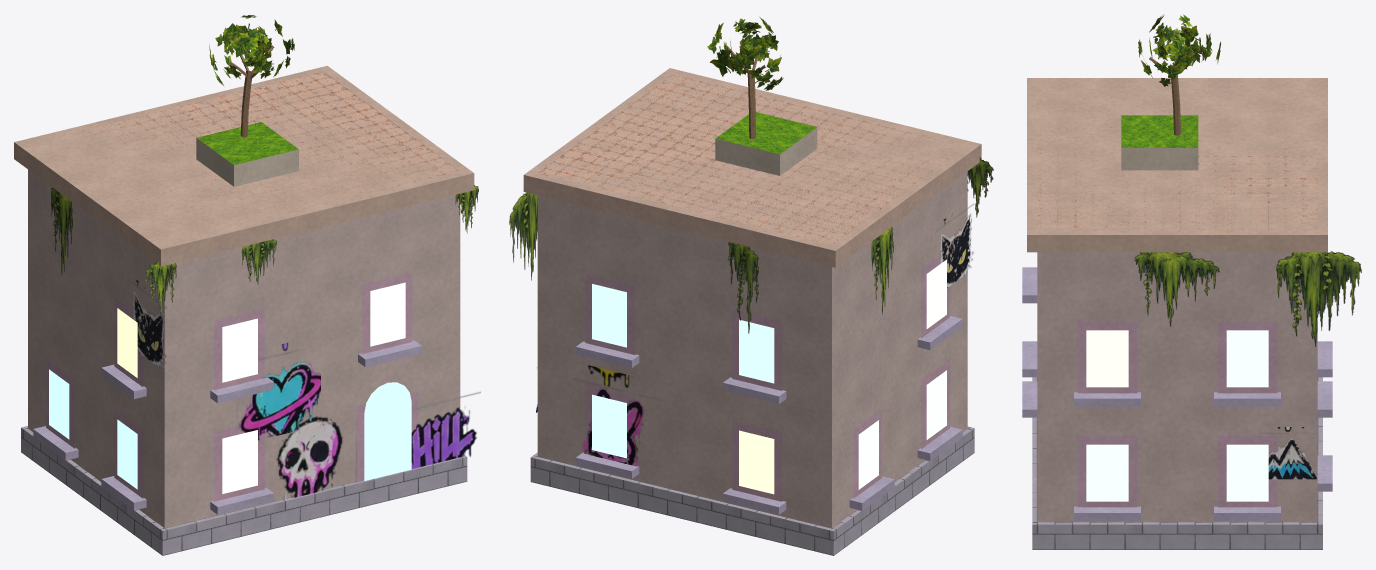
File: BUILDING_02.glb
3 renders of one model, left to right at view 1: azimuth 30°, elevation 25°; view 2: azimuth 150°, elevation 25°; view 3: azimuth 270°, elevation 25°, orthographic. The views are drawn at different scales.
Parts seen in each view (by area): view 1: B_AS_02_Skin, B_AS_02_Moss, BUILDING_02_Trees; view 2: B_AS_02_Skin, B_AS_02_Moss, BUILDING_02_Trees; view 3: B_AS_02_Skin, B_AS_02_Moss, BUILDING_02_Trees.
Part boxes in pixels (x1,y1,x2,y2): B_AS_02_Skin: (14,65,480,555); B_AS_02_Moss: (51,185,478,320); BUILDING_02_Trees: (209,15,294,137); B_AS_02_Skin: (523,68,981,555); B_AS_02_Moss: (509,157,993,333); BUILDING_02_Trees: (707,16,783,138); B_AS_02_Skin: (1022,78,1332,549); B_AS_02_Moss: (1134,250,1361,346); BUILDING_02_Trees: (1138,14,1221,135).
Size of the model in its own units: 11.43 by 14.6 by 9.68.
Materials: 11 (8 with a texture image).
